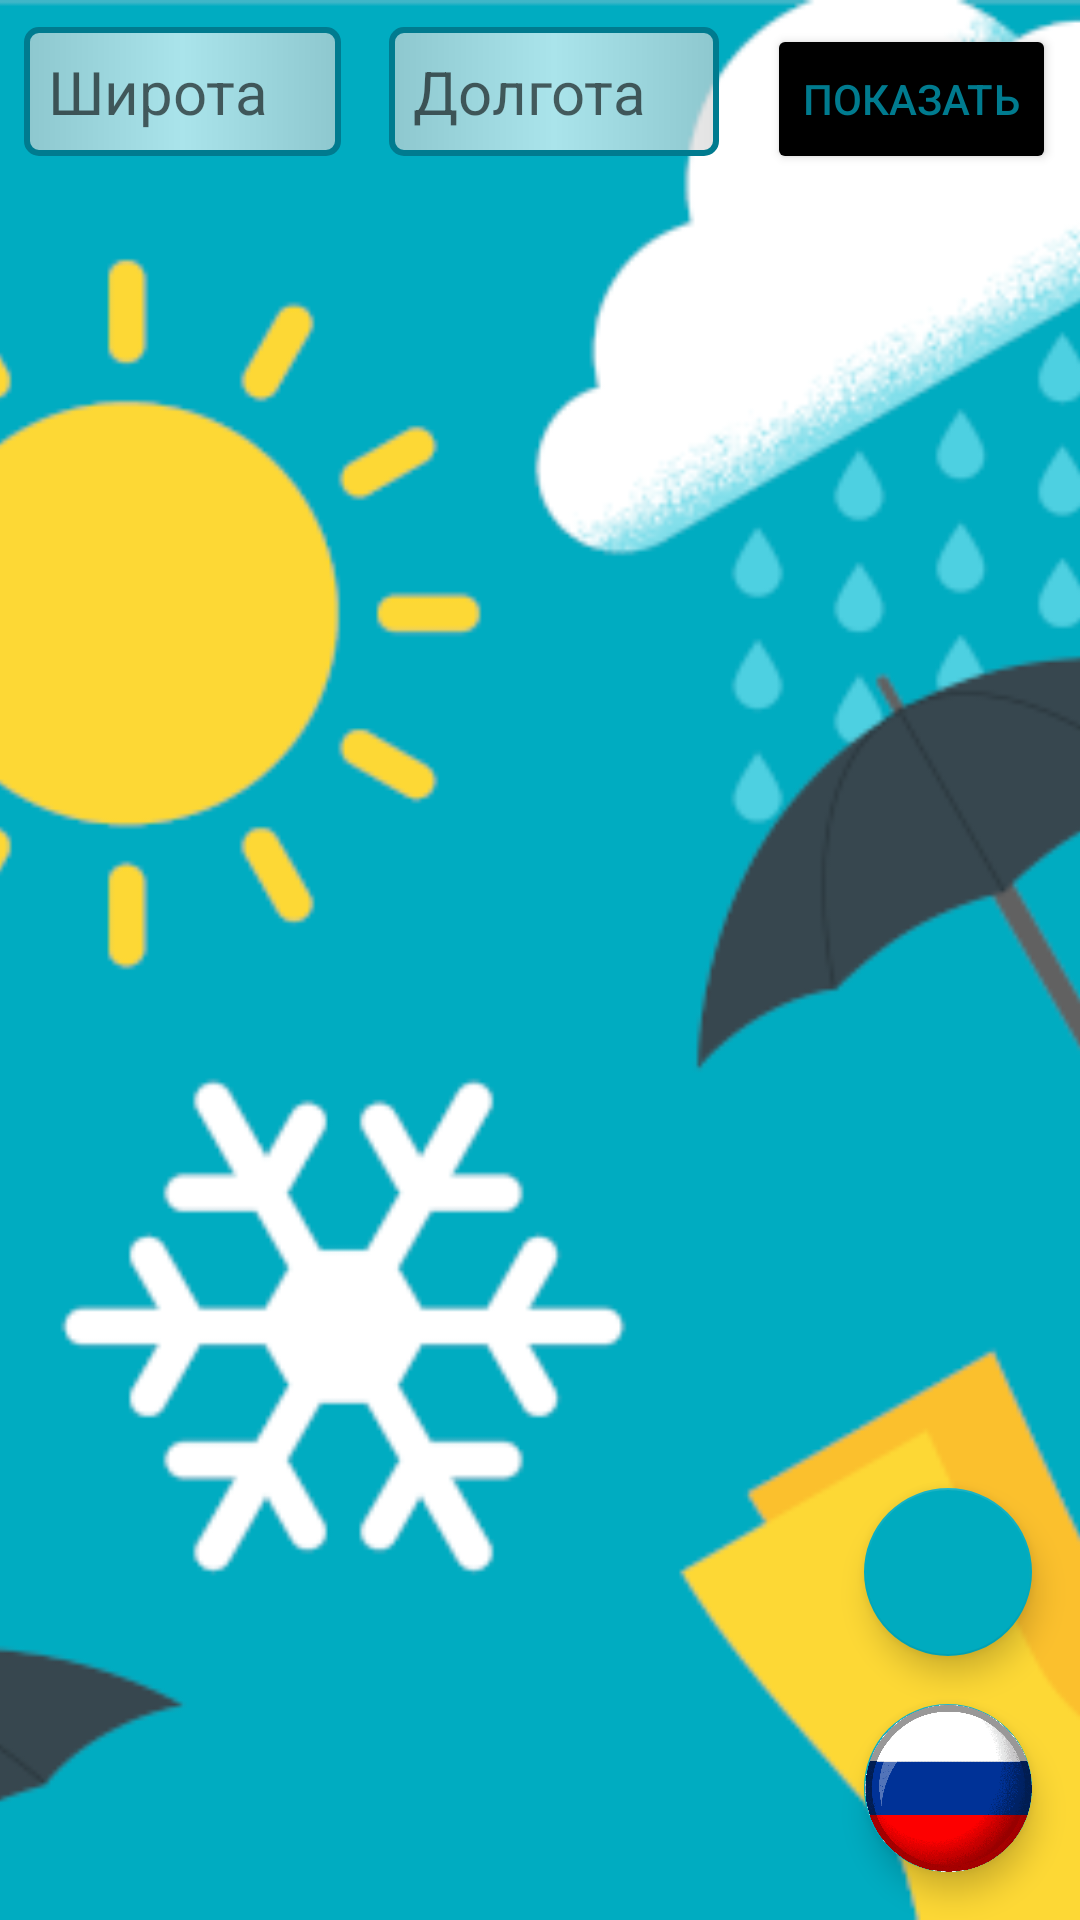

Locate icon controls on the screen. Image size 1080x1920, boxes as bbox(x1, y1, x2, y2).
russia: bbox(864, 1704, 1032, 1872)
